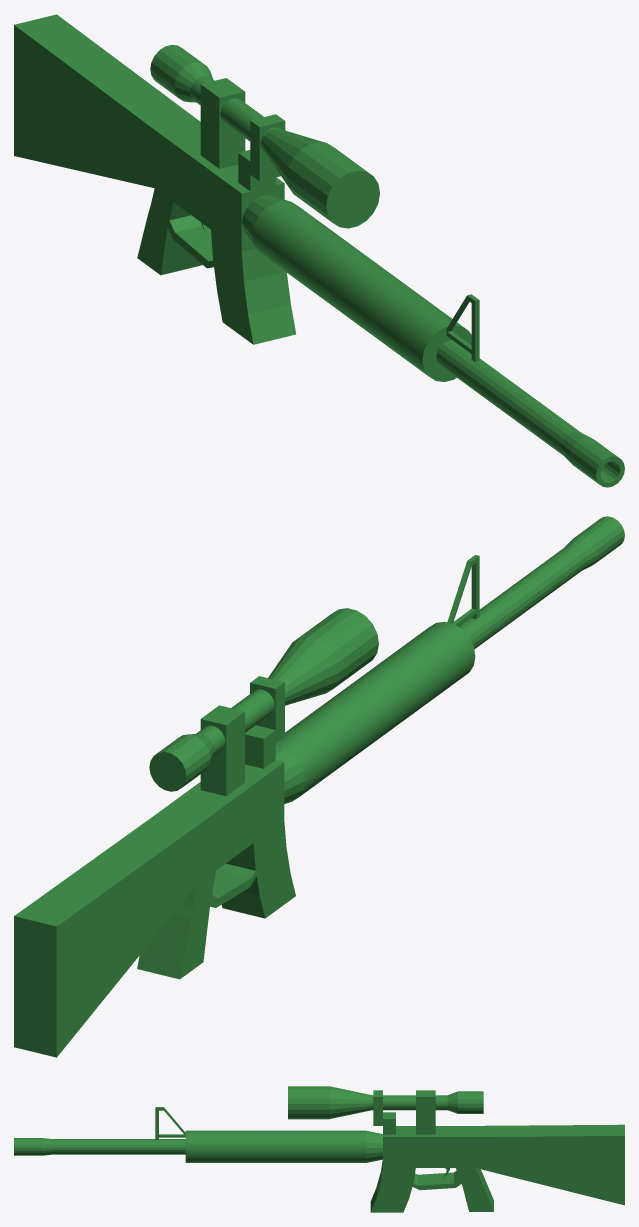
The model's file is sniper.fbx.
3 views of the same model, one above another, from view 1: azimuth 30°, elevation 25°; view 2: azimuth 150°, elevation 25°; view 3: azimuth 270°, elevation 25° (orthographic). The views are drawn at different scales.
Parts seen in each view (by area): view 1: Box001, Cylinder002, Cylinder001; view 2: Box001, Cylinder002, Cylinder001; view 3: Box001, Cylinder002, Cylinder001.
Boxes of the visible parts, bbox=[...] form: Box001: bbox=[14, 14, 295, 344]; Cylinder002: bbox=[242, 195, 624, 487]; Cylinder001: bbox=[150, 45, 379, 228]; Box001: bbox=[14, 676, 295, 1057]; Cylinder002: bbox=[275, 516, 624, 803]; Cylinder001: bbox=[149, 608, 378, 791]; Box001: bbox=[370, 1090, 624, 1212]; Cylinder002: bbox=[14, 1107, 382, 1162]; Cylinder001: bbox=[288, 1086, 483, 1119].
Bounding box in the file's own units: 27.22 × 502 × 108.
Materials: 1 (1 with a texture image).
